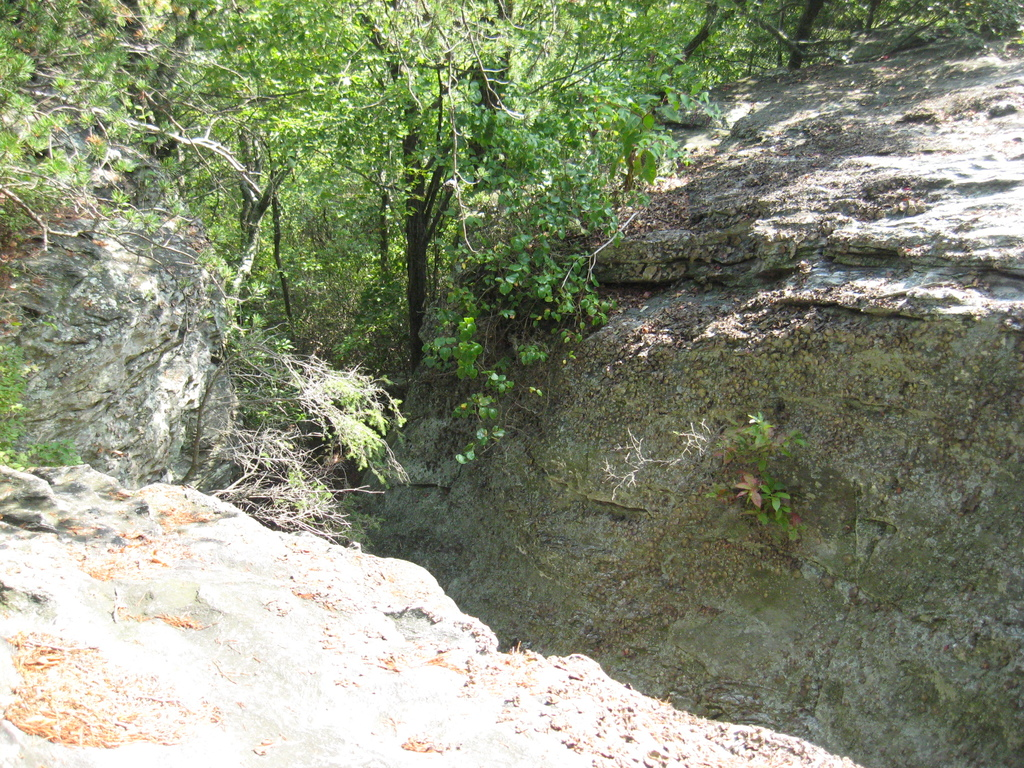Tree: (4, 0, 1023, 396), (170, 0, 623, 370)
